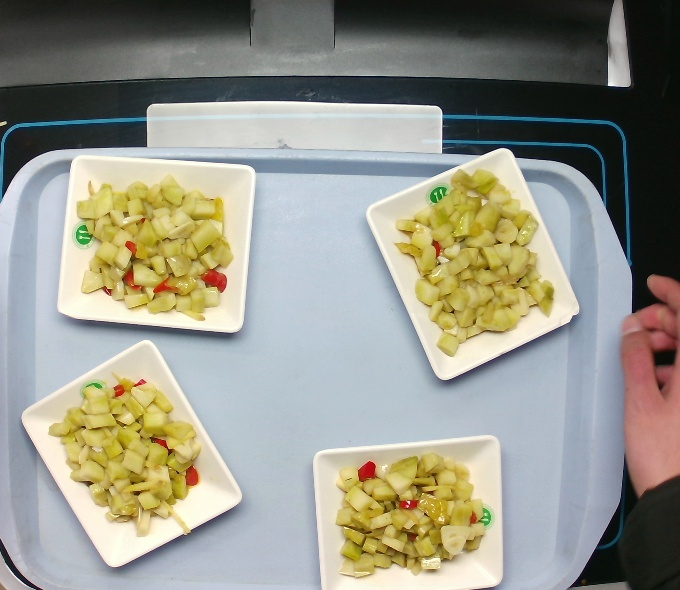wcq-YanHuaCaiGeng: (394, 168, 555, 358), (48, 373, 202, 527), (326, 446, 493, 580), (75, 183, 234, 315)
